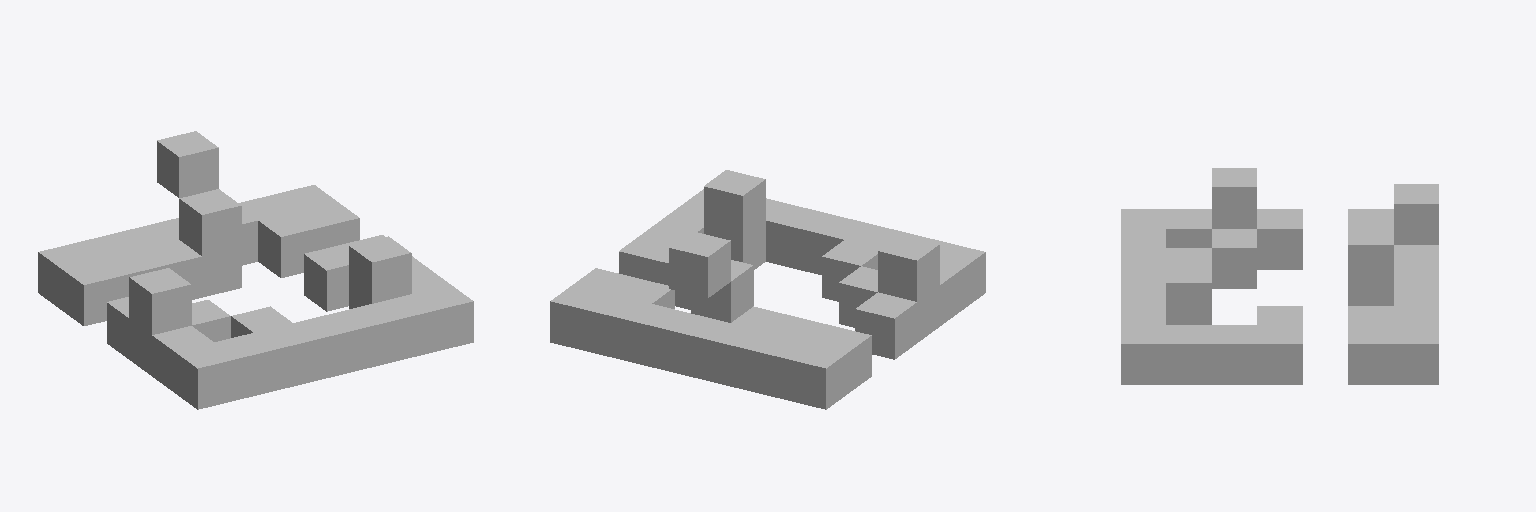
The model's file is environ-deck1-broken-1.obj.
3 views of the same model, side by side, from view 1: azimuth 30°, elevation 25°; view 2: azimuth 150°, elevation 25°; view 3: azimuth 270°, elevation 25° (orthographic).
Visible parts, largest first — view 1: deck1-broken-1; view 2: deck1-broken-1; view 3: deck1-broken-1.
Boxes of the visible parts, x1=… form: deck1-broken-1: x1=38, y1=131, x2=473, y2=409; deck1-broken-1: x1=550, y1=170, x2=985, y2=409; deck1-broken-1: x1=1121, y1=168, x2=1438, y2=384.
Size of the model in its own units: 0.7 by 0.3 by 0.7.